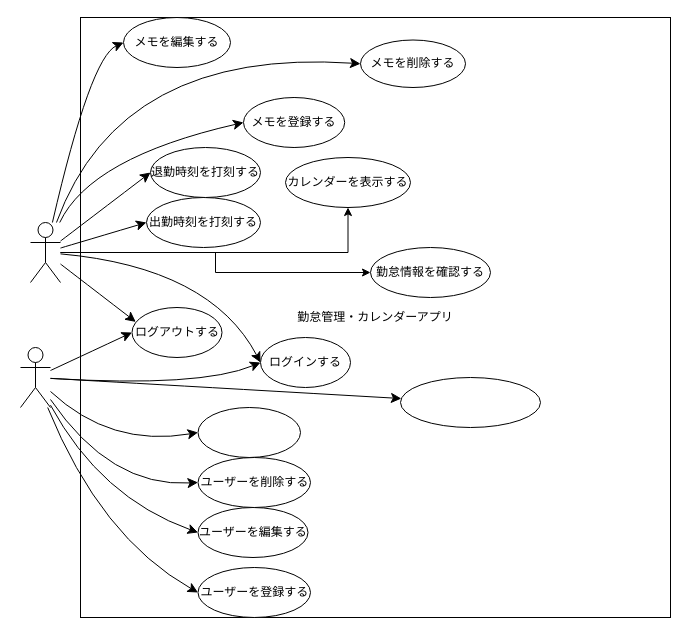
Image size: 688x635. Some labels were removed from this diagram. Here are the shapes that lost their labels. From the top down, the box of each, then its label:
(30, 222, 60, 282): 一般社員
(20, 346, 50, 408): 管理者
(400, 376, 540, 428): 勤怠情報をCSV出力する
(197, 406, 300, 458): 勤怠一覧確認する
